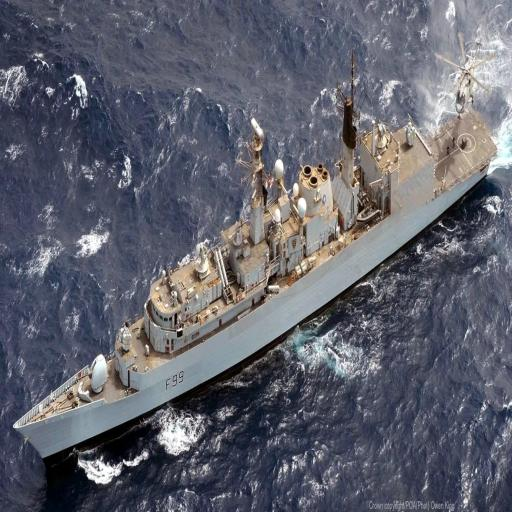Fragata: (1, 45, 350, 486)
